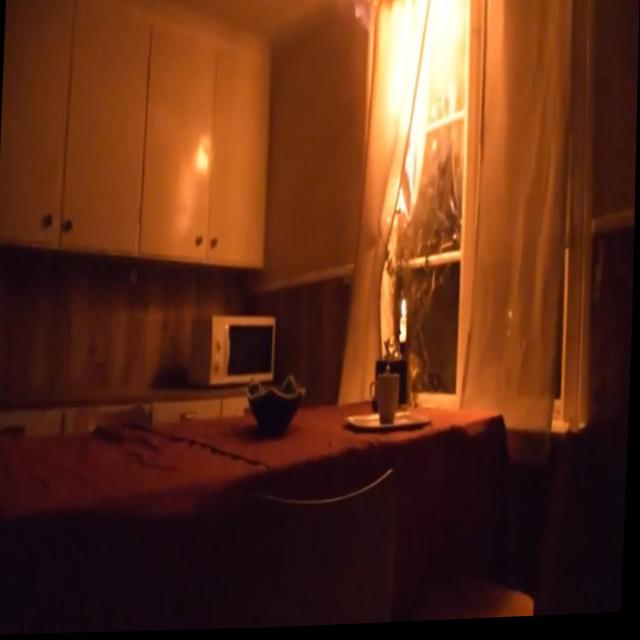fire: (347, 0, 466, 229), (401, 299, 410, 319)
